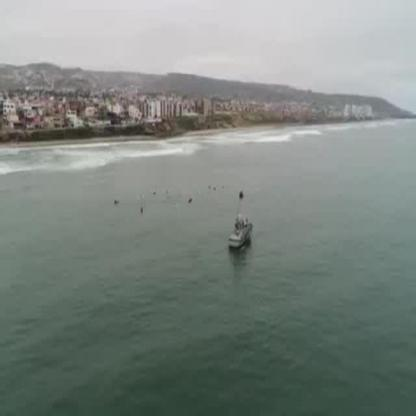Boat: (228, 219, 252, 250)
